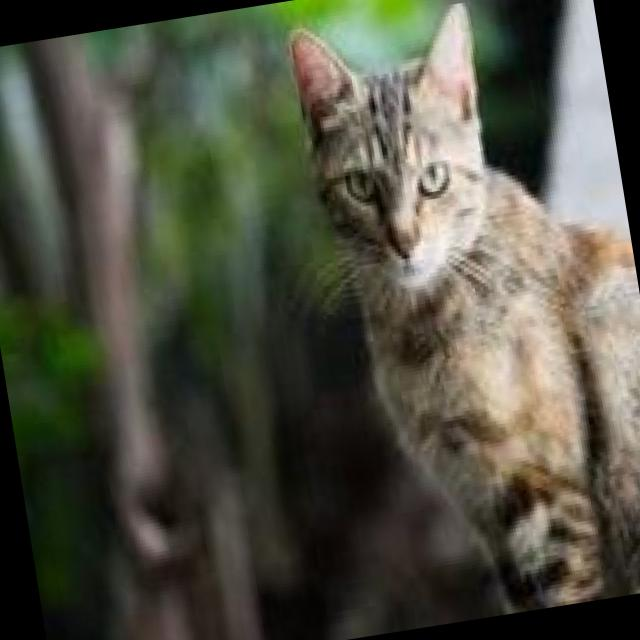Gato: (240, 0, 640, 640)
